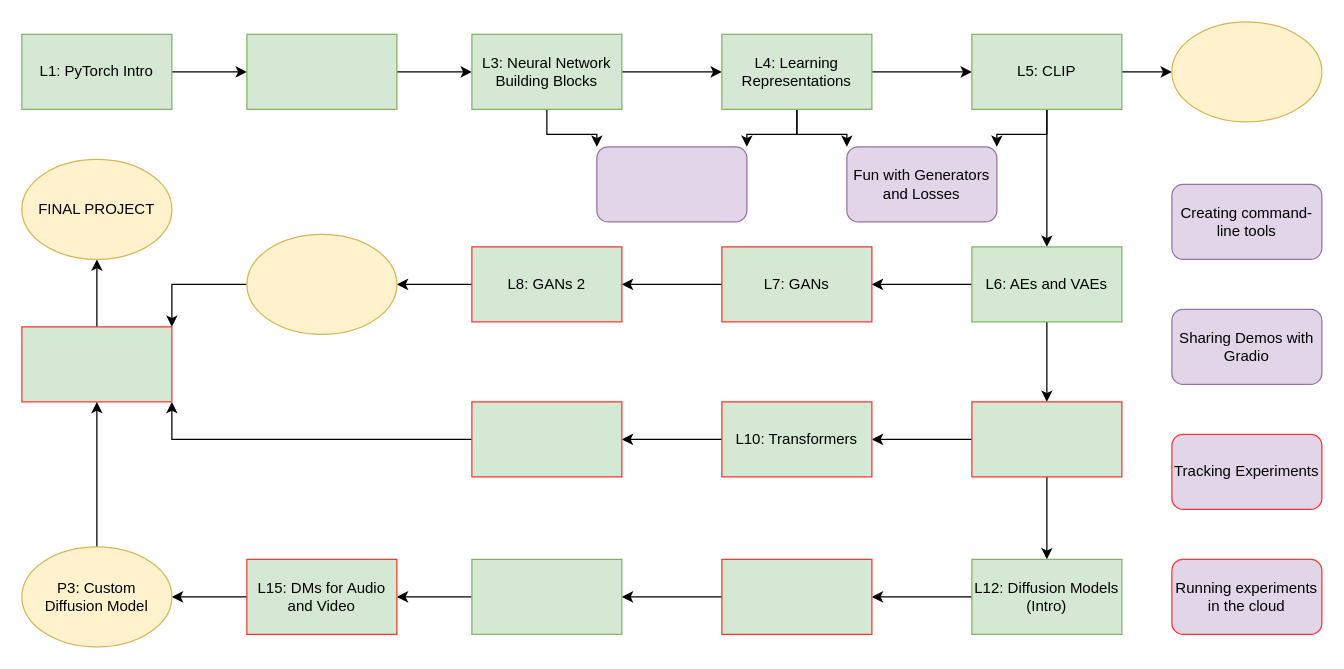
Some shapes in this 1344 by 669 pixel diagram are drawn without their labels. Each missing label, with the centre of its shape:
"Fine-Tuning NNs for classification" belongs at (x=671, y=184).
"L11: Transformers + VQGAN" belongs at (x=546, y=439).
"L13: DMs - Guidance and Conditioning" belongs at (x=796, y=596).
"L14: Stable Diffusion Deep Dive" belongs at (x=546, y=596).
"L16: The Next Generation" belongs at (x=96, y=364).
"L2: Gradient Descent" belongs at (x=321, y=71).
"L9: Sequence Modelling" belongs at (x=1046, y=439).
"P1: Custom Generator" belongs at (x=1246, y=71).
"P2: Custom GAN" belongs at (x=321, y=283).
